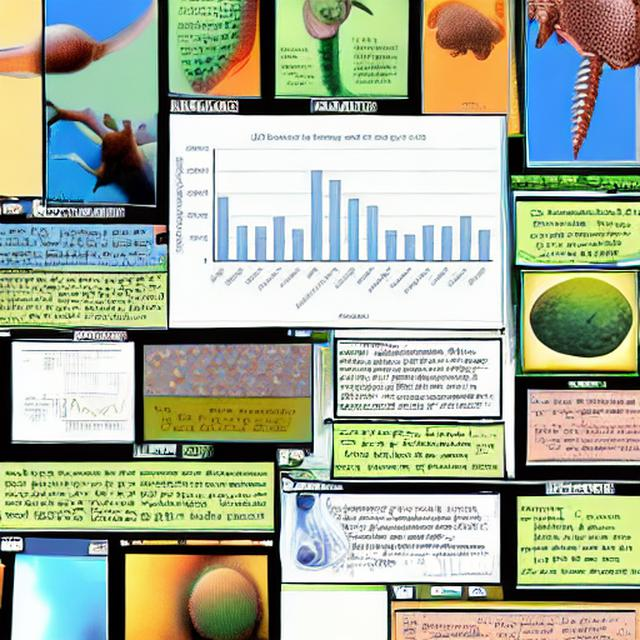Graph: (174, 131, 498, 323), (55, 389, 125, 438)
